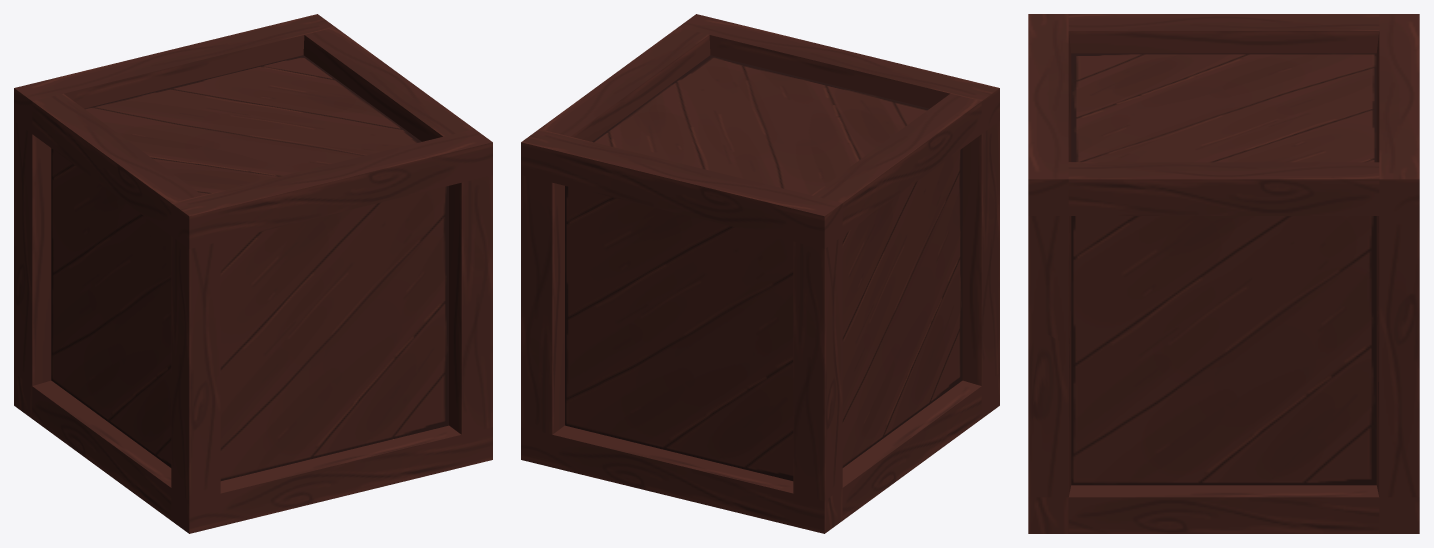
The picture shows the model from 3 angles, left to right: view 1: azimuth 30°, elevation 25°; view 2: azimuth 150°, elevation 25°; view 3: azimuth 270°, elevation 25°; orthographic projection. The views are drawn at different scales.
Parts seen in each view (by area): view 1: BoxWall6Des3, BoxWall6Des4, BoxWall3Des4, BoxWall6Des1, BoxWall6Des2, BoxWall3Des3, BoxSDes3-1, BoxSDes1-2, BoxSDes1-1, BoxWall1Des4, BoxWall1Des2, BoxSDes10-2 (+19 smaller); view 2: BoxWall4Des4, BoxWall4Des2, BoxWall4Des1, BoxWall3Des4, BoxWall1Des4, BoxWall4Des3, BoxSDes7-2, BoxWall1Des3, BoxSDes12-2, BoxSDes11-2, BoxSDes7-1, BoxWall3Des2 (+19 smaller); view 3: BoxWall5Des2, BoxWall5Des1, BoxWall5Des4, BoxWall1Des4, BoxWall5Des3, BoxSDes9-2, BoxSDes2-2, BoxSDes8-2, BoxSDes6-2, BoxWall1Des1, BoxSDes10-2, BoxSDes2-1 (+12 smaller).
Boxes of the visible parts, <box> form: BoxWall6Des3: <box>330,186,448,424</box>; BoxWall6Des4: <box>264,303,448,470</box>; BoxWall3Des4: <box>82,279,171,467</box>; BoxWall6Des1: <box>220,249,278,480</box>; BoxWall6Des2: <box>220,214,330,339</box>; BoxWall3Des3: <box>51,148,119,402</box>; BoxSDes3-1: <box>171,443,380,533</box>; BoxSDes1-2: <box>301,129,492,221</box>; BoxSDes1-1: <box>171,156,364,248</box>; BoxWall1Des4: <box>119,127,291,195</box>; BoxWall1Des2: <box>192,55,371,127</box>; BoxSDes10-2: <box>449,255,492,434</box>; BoxWall4Des4: <box>617,303,793,480</box>; BoxWall4Des2: <box>683,214,793,380</box>; BoxWall4Des1: <box>565,186,630,438</box>; BoxWall3Des4: <box>856,279,962,458</box>; BoxWall1Des4: <box>734,90,929,182</box>; BoxWall4Des3: <box>569,187,683,314</box>; BoxSDes7-2: <box>521,129,731,202</box>; BoxWall1Des3: <box>642,55,854,127</box>; BoxSDes12-2: <box>521,425,729,500</box>; BoxSDes11-2: <box>793,329,842,500</box>; BoxSDes7-1: <box>633,176,842,248</box>; BoxWall3Des2: <box>894,148,962,283</box>; BoxWall5Des2: <box>1224,216,1376,484</box>; BoxWall5Des1: <box>1139,316,1376,485</box>; BoxWall5Des4: <box>1071,216,1156,485</box>; BoxWall1Des4: <box>1071,53,1308,131</box>; BoxWall5Des3: <box>1076,216,1223,342</box>; BoxSDes9-2: <box>1068,485,1283,533</box>; BoxSDes2-2: <box>1173,162,1379,215</box>; BoxSDes8-2: <box>1376,302,1419,497</box>; BoxSDes6-2: <box>1167,14,1379,53</box>; BoxWall1Des1: <box>1224,53,1376,131</box>; BoxSDes10-2: <box>1028,305,1071,497</box>; BoxSDes2-1: <box>1068,162,1275,215</box>.
Size of the model in its own units: 455 by 455 by 455.
